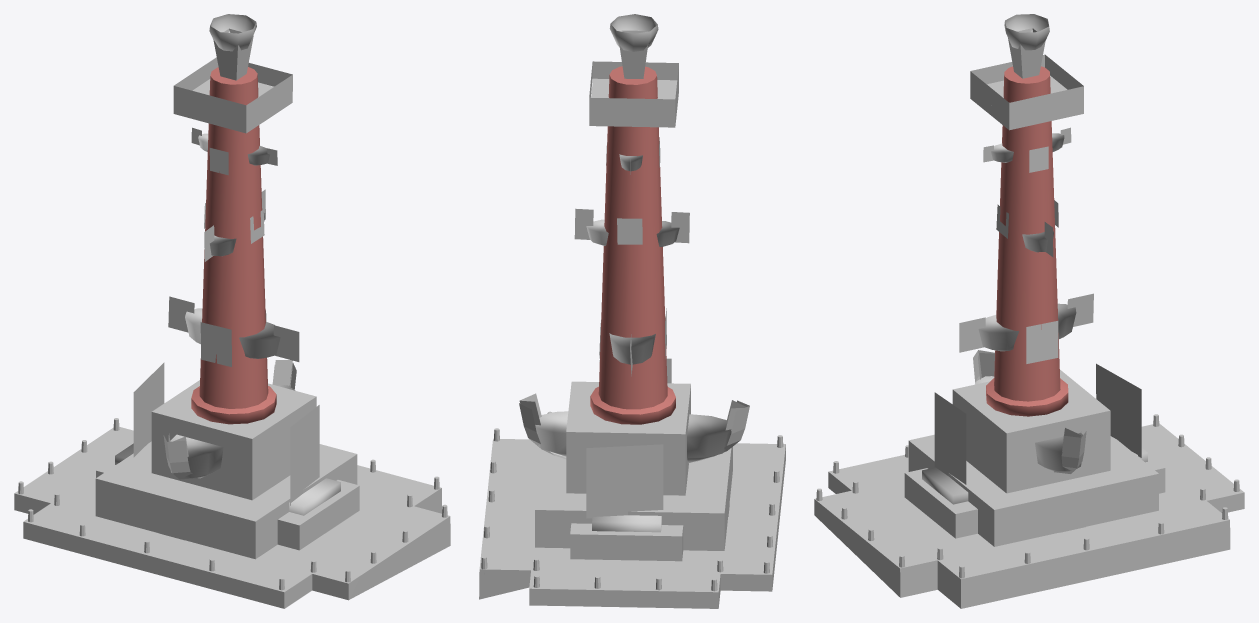
Rendered from rostr.dae.
The picture shows the model from 3 angles, left to right: view 1: azimuth 30°, elevation 25°; view 2: azimuth 150°, elevation 25°; view 3: azimuth 270°, elevation 25°; orthographic projection. The views are drawn at different scales.
Visible parts, largest first — view 1: Mesh45__________3_1_Model_002, Mesh46________01_4_1_Model_002; view 2: Mesh45__________3_1_Model_002, Mesh46________01_4_1_Model_002; view 3: Mesh45__________3_1_Model_002, Mesh46________01_4_1_Model_002.
Part boxes in pixels (x1,y1,x2,y2): Mesh45__________3_1_Model_002: (14, 14, 450, 608); Mesh46________01_4_1_Model_002: (191, 67, 276, 424); Mesh45__________3_1_Model_002: (479, 14, 785, 608); Mesh46________01_4_1_Model_002: (590, 66, 675, 424); Mesh45__________3_1_Model_002: (814, 14, 1244, 608); Mesh46________01_4_1_Model_002: (986, 66, 1068, 416).
Bounding box in the file's own units: 2.34 × 2.55 × 3.28.
